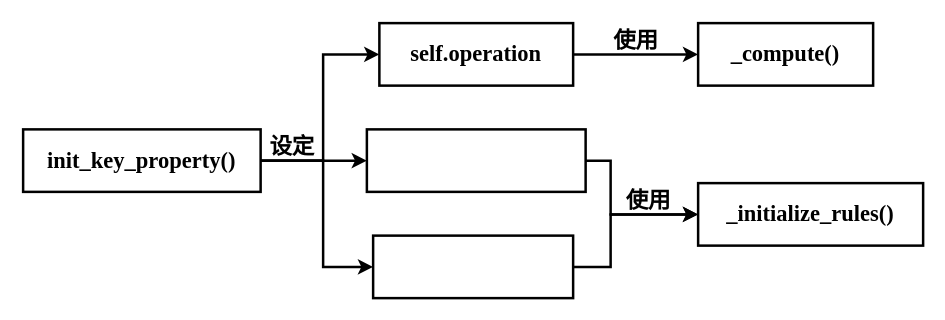
The diagram is 945 pixels wide and 320 high, and some of its shapes have lost their labels. Each missing label, with the centre of its shape:
"self.mather_list" belongs at (472,266).
"self.rule_dict" belongs at (475,160).
